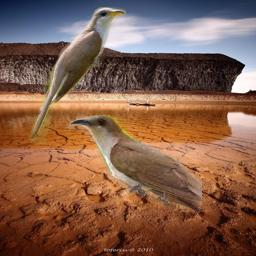Cuckoo: (27, 7, 126, 144), (67, 115, 202, 214)
